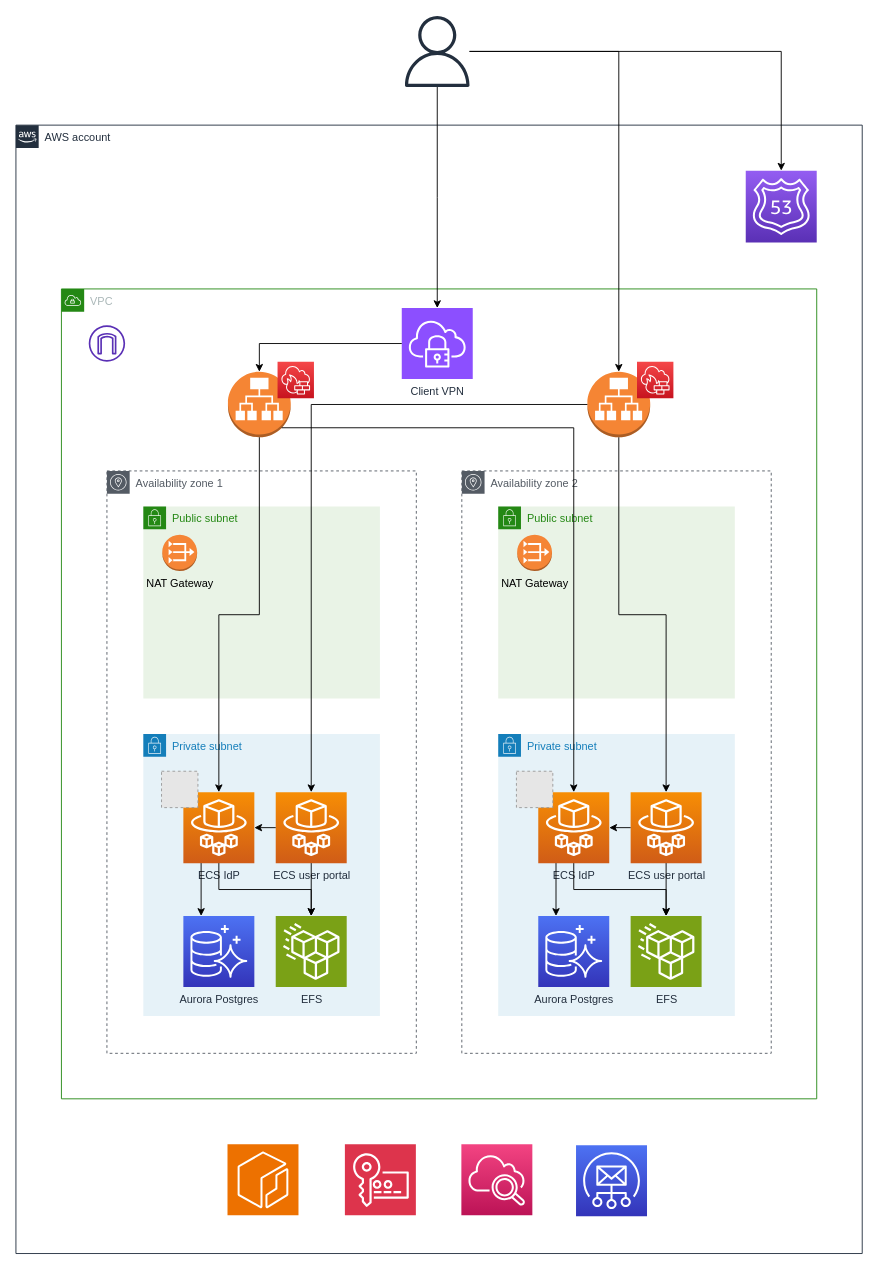
The diagram is 878 pixels wide and 1269 high, and some of its shapes have lost their labels. Grey dashed boxes stand in for pictures. Here are the shapes that lost their labels. From the top down, the centre of each, then its label:
At pixel 436 50: "User".
At pixel 781 206: "Route53".
At pixel 106 343: "Internet Gateway".
At pixel 259 404: "Private ALB".
At pixel 618 404: "Public ALB".
At pixel 262 1179: "ECR".
At pixel 380 1179: "KMS".
At pixel 496 1179: "CloudWatch".
At pixel 611 1180: "SES".
